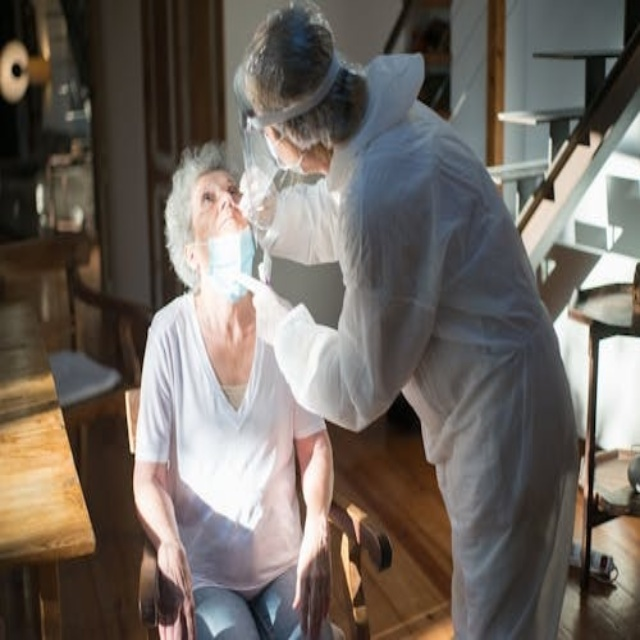Guantes: (227, 275, 295, 348), (241, 165, 280, 233)
Sin_gafas: (195, 171, 239, 207)
Sin_guantes: (293, 528, 332, 637), (155, 540, 197, 640)
Sin_mascara: (220, 211, 238, 229)
